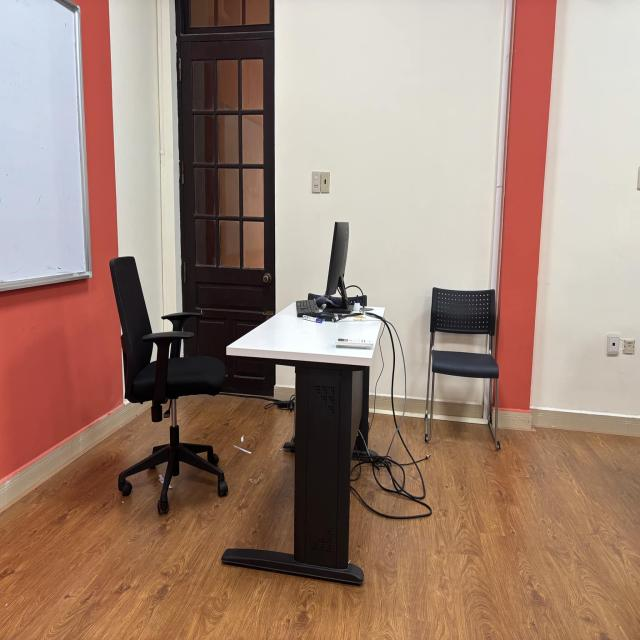door: (175, 2, 277, 398)
obstacle: (222, 298, 386, 585), (109, 255, 228, 515), (424, 286, 501, 450)
